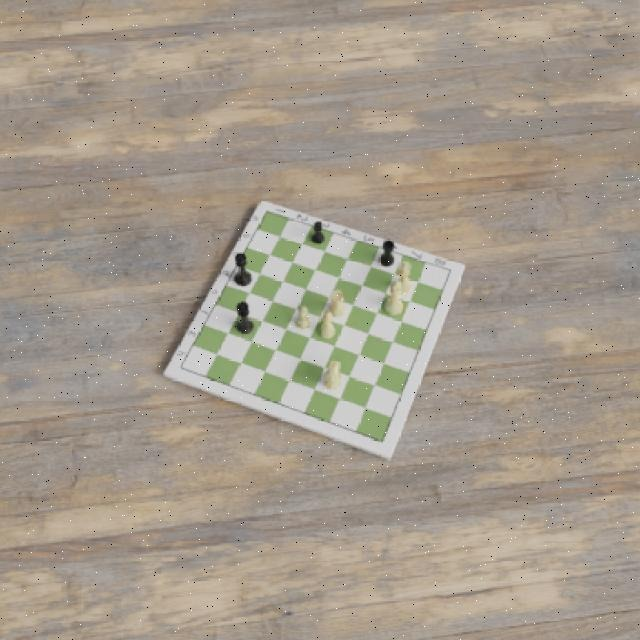black-king: (234, 251, 249, 288)
black-pawn: (310, 220, 325, 245)
black-queen: (236, 299, 252, 333)
white-bishop: (318, 309, 334, 339)
white-king: (396, 260, 411, 296)
white-knight: (322, 358, 342, 390)
white-pawn: (294, 305, 309, 330)
white-queen: (383, 278, 405, 317)
white-rook: (328, 287, 344, 319), (378, 238, 394, 266)
